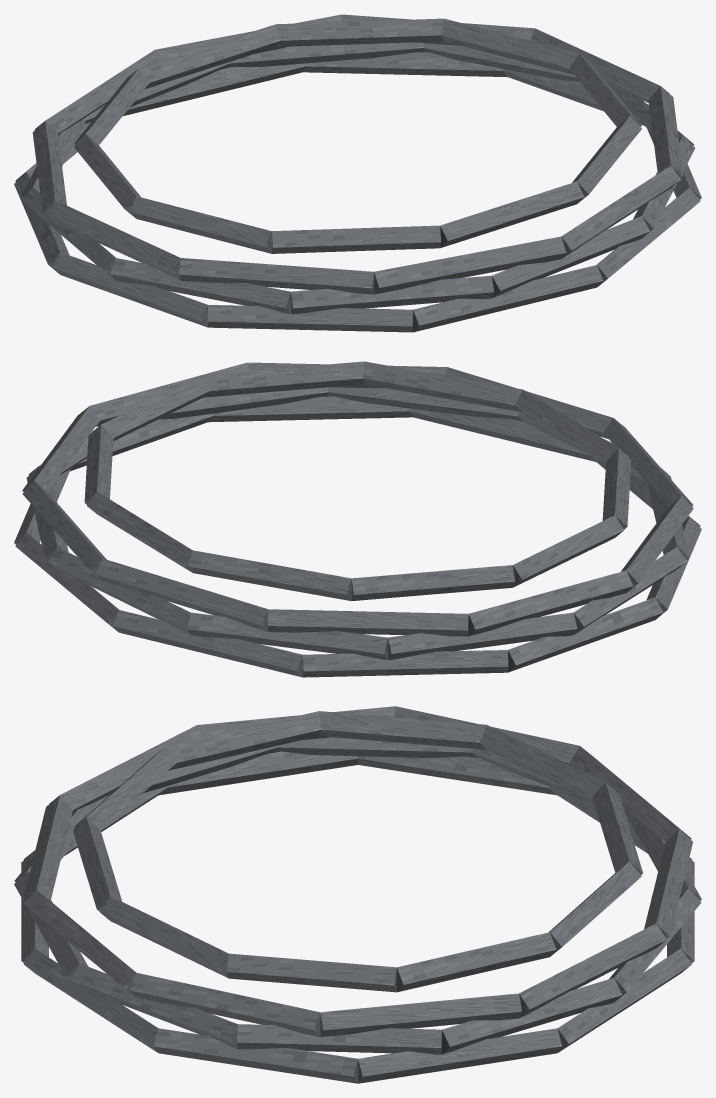
File: hc_wire.glb
3 views of the same model, one above another, from view 1: azimuth 30°, elevation 25°; view 2: azimuth 150°, elevation 25°; view 3: azimuth 270°, elevation 25° (orthographic). The views are drawn at different scales.
Parts seen in each view (by area): view 1: block_wire0-3, block_wire2-0, block_wire2-9, block_wire0-2, block_wire1-1, block_wire3-8, block_wire3-3, block_wire1-2, block_wire3-7, block_wire0-4, block_wire3-9, block_wire0-8 (+26 smaller); view 2: block_wire2-3, block_wire0-6, block_wire0-7, block_wire1-5, block_wire2-4, block_wire3-1, block_wire3-2, block_wire1-4, block_wire2-2, block_wire3-6, block_wire3-7, block_wire0-5 (+27 smaller); view 3: block_wire2-6, block_wire0-9, block_wire0-0, block_wire2-7, block_wire1-8, block_wire3-5, block_wire3-0, block_wire3-4, block_wire3-9, block_wire1-7, block_wire2-5, block_wire1-9 (+28 smaller).
Boxes of the visible parts, left/top/right/bottom form: block_wire0-3: left=207, top=305, right=412, bottom=332; block_wire2-0: left=179, top=258, right=374, bottom=294; block_wire2-9: left=374, top=236, right=566, bottom=294; block_wire0-2: left=413, top=265, right=602, bottom=332; block_wire1-1: left=291, top=275, right=493, bottom=314; block_wire3-8: left=272, top=225, right=440, bottom=253; block_wire3-3: left=276, top=18, right=443, bottom=46; block_wire1-2: left=110, top=258, right=290, bottom=314; block_wire3-7: left=440, top=181, right=584, bottom=247; block_wire0-4: left=52, top=252, right=207, bottom=327; block_wire3-9: left=130, top=196, right=271, bottom=253; block_wire0-8: left=303, top=52, right=507, bottom=77; block_wire2-3: left=267, top=609, right=468, bottom=636; block_wire0-6: left=303, top=650, right=508, bottom=677; block_wire0-7: left=113, top=610, right=302, bottom=677; block_wire1-5: left=187, top=612, right=387, bottom=660; block_wire2-4: left=95, top=558, right=268, bottom=631; block_wire3-1: left=351, top=565, right=515, bottom=600; block_wire3-2: left=188, top=550, right=351, bottom=600; block_wire1-4: left=388, top=612, right=577, bottom=660; block_wire2-2: left=468, top=570, right=632, bottom=636; block_wire3-6: left=203, top=361, right=364, bottom=397; block_wire3-7: left=363, top=361, right=522, bottom=412; block_wire0-5: left=508, top=597, right=663, bottom=672; block_wire2-6: left=320, top=993, right=521, bottom=1037; block_wire0-9: left=358, top=1028, right=561, bottom=1083; block_wire0-0: left=154, top=1028, right=357, bottom=1083; block_wire2-7: left=130, top=972, right=320, bottom=1036; block_wire1-8: left=237, top=1024, right=441, bottom=1054; block_wire3-5: left=226, top=953, right=396, bottom=992; block_wire3-0: left=319, top=711, right=486, bottom=749; block_wire3-4: left=397, top=932, right=556, bottom=992; block_wire3-9: left=166, top=711, right=321, bottom=770; block_wire1-7: left=442, top=978, right=621, bottom=1054; block_wire2-5: left=519, top=923, right=666, bottom=1017; block_wire1-9: left=70, top=963, right=237, bottom=1048.
Size of the model in its own units: 0.113 by 0.0136 by 0.0996.
Materials: 1 (1 with a texture image).
